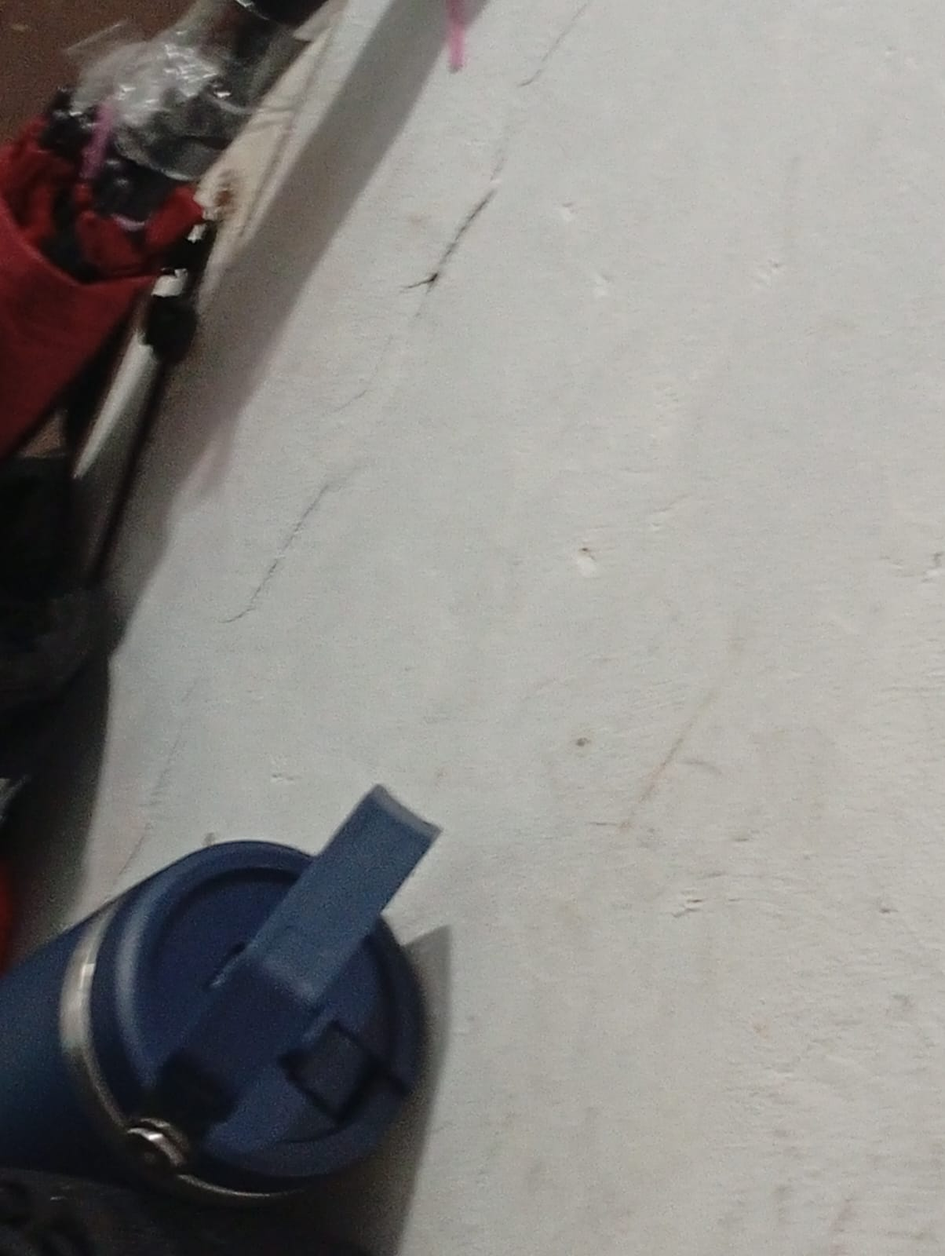Tupperware: (10, 762, 504, 1238)
